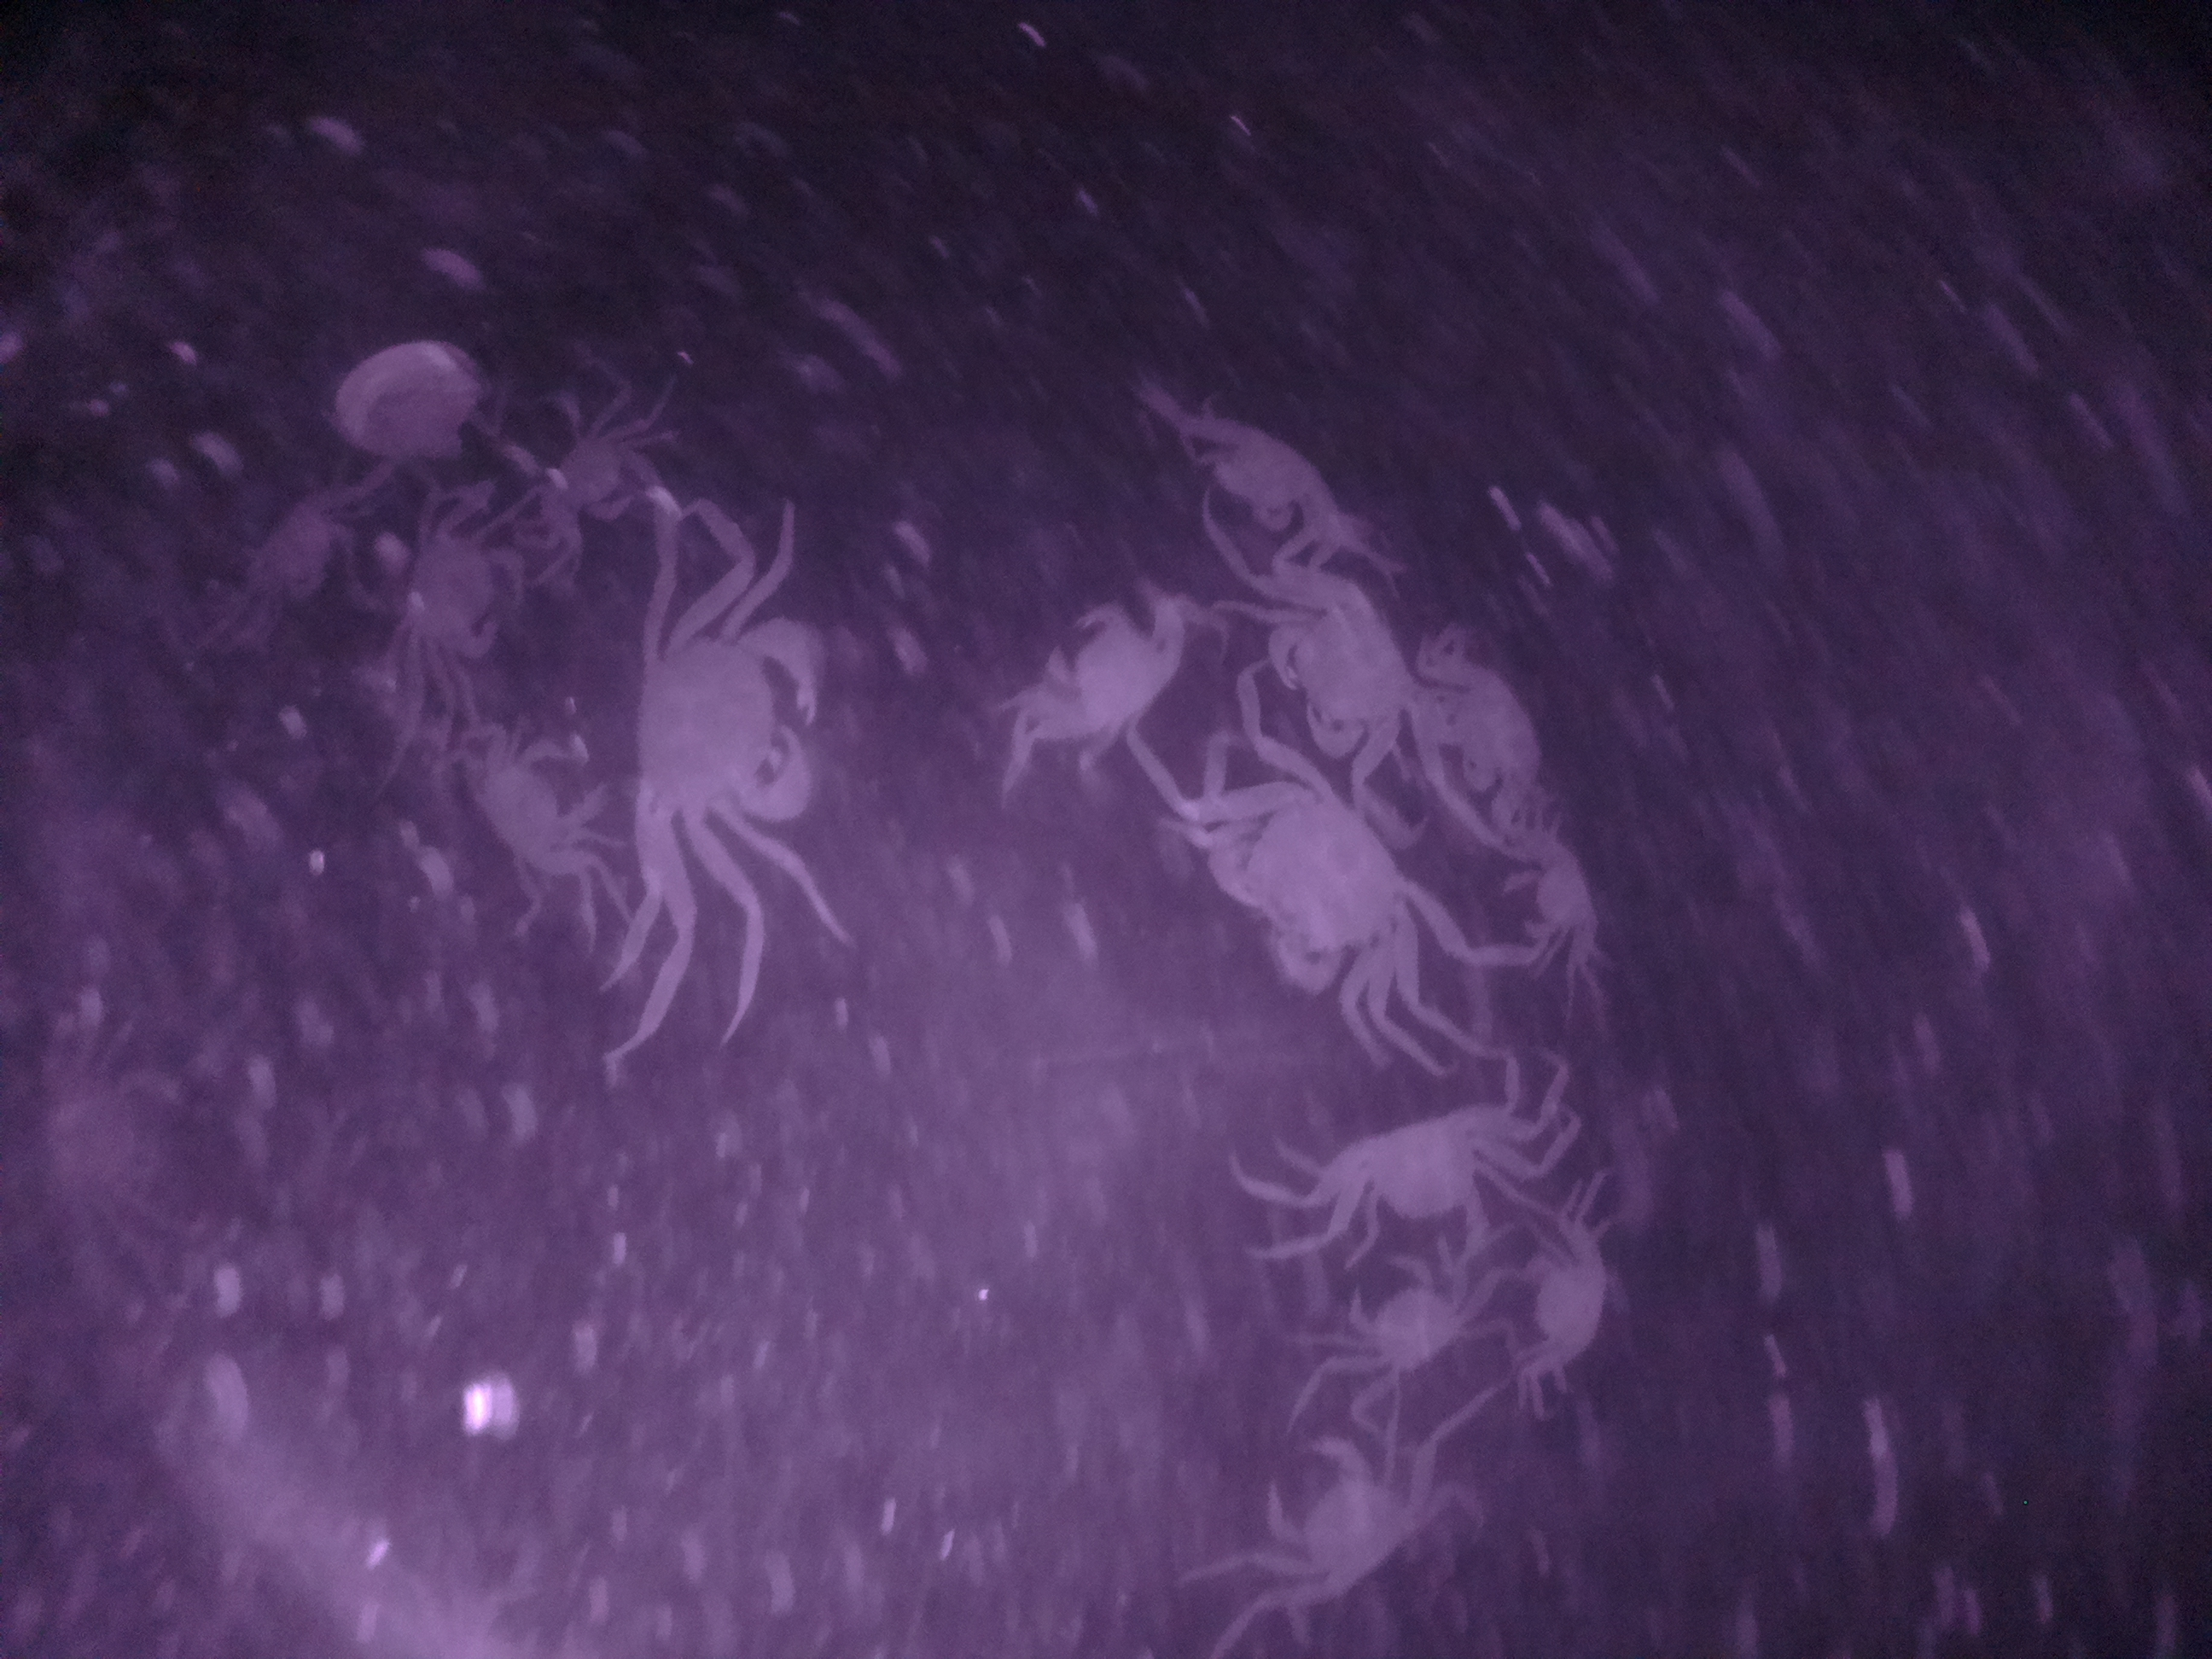Crab: (1169, 749, 1418, 1030), (618, 586, 843, 856), (1273, 1086, 1534, 1255), (1237, 552, 1426, 769), (1238, 1432, 1446, 1612), (385, 497, 559, 680), (460, 720, 611, 896), (1327, 1243, 1489, 1394), (1512, 1208, 1641, 1396), (1494, 810, 1609, 974)
